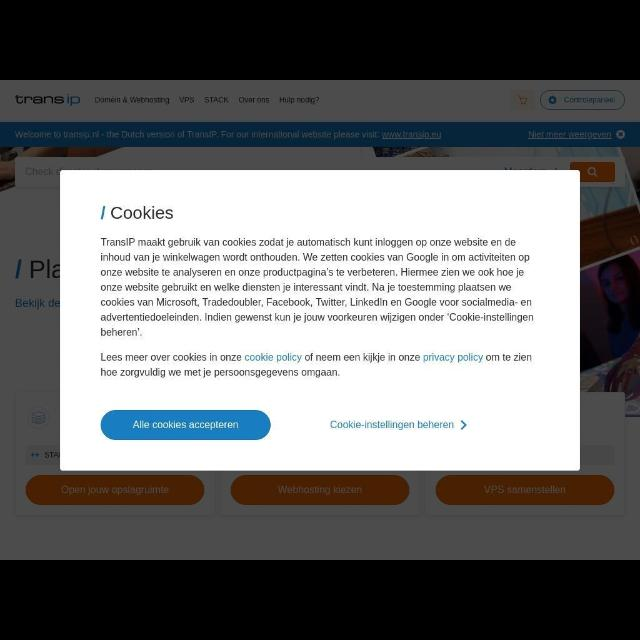button: (510, 90, 536, 110)
icon: (26, 406, 49, 429), (516, 94, 528, 106), (546, 95, 558, 105), (615, 128, 625, 140), (459, 420, 466, 430)
image: (14, 94, 80, 106)
multitab: (94, 96, 320, 106)
text: (100, 237, 536, 337), (100, 352, 532, 378), (14, 130, 442, 140), (60, 484, 170, 496), (132, 419, 238, 431), (330, 420, 454, 430), (276, 484, 362, 496), (110, 206, 174, 222), (483, 484, 567, 496), (526, 130, 612, 140), (94, 95, 170, 106), (29, 259, 60, 281), (15, 296, 60, 310), (278, 96, 320, 106), (564, 96, 616, 104), (239, 96, 271, 104), (203, 96, 230, 104), (30, 452, 60, 458), (178, 96, 195, 104)
textbutton: (230, 476, 410, 506), (435, 476, 615, 506), (26, 475, 204, 505), (101, 410, 271, 440), (540, 90, 626, 110)
